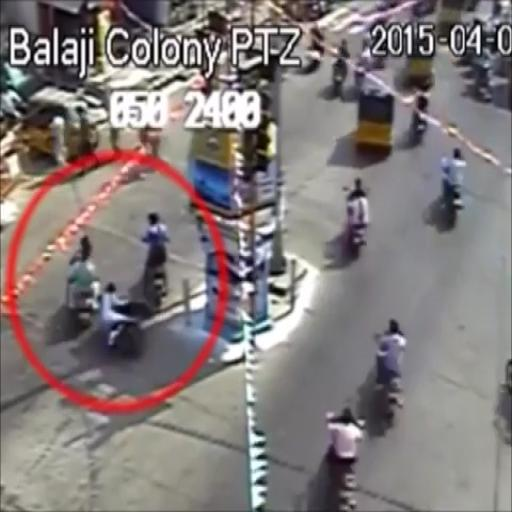小汽车: (32, 84, 96, 165), (358, 82, 395, 157)
自行车: (324, 406, 366, 508), (370, 319, 409, 427), (138, 208, 172, 312), (103, 282, 146, 360), (66, 232, 98, 328), (439, 145, 468, 231), (339, 176, 369, 258), (408, 86, 429, 149)
